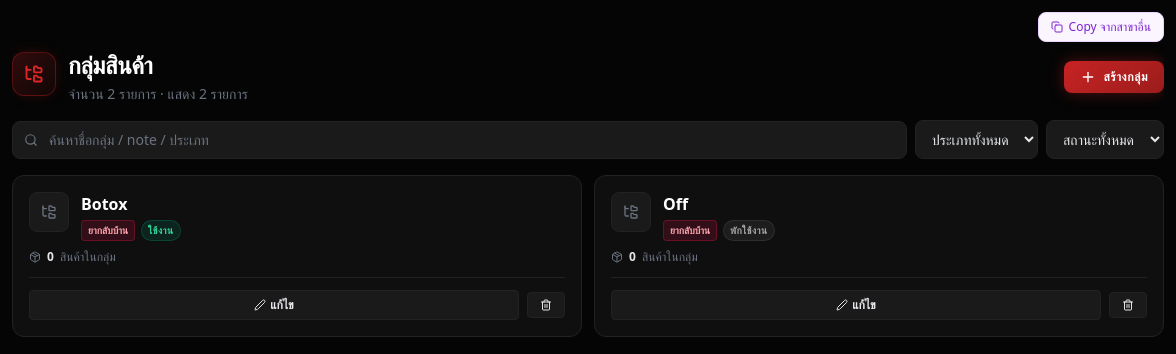
Test: ProductGroupsTab — PU1..PU10 › PU5: status filter hides พักใช้งาน when filter=ใช้งาน
Check: the heading "Botox" is shown, box 81,193 -> 127,215
Select "ใช้งาน" in the 2nd dropdown showing "สถานะทั้งหมด" at (1105, 140), box 1046,120 -> 1164,159
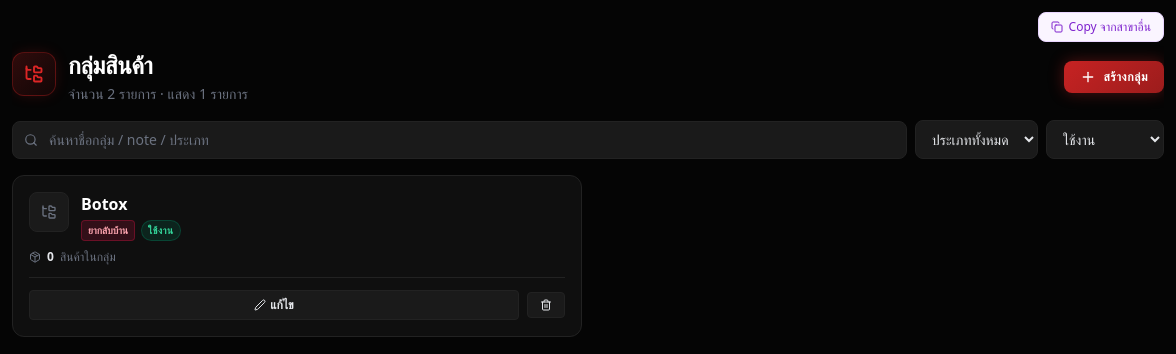
Check: the heading "Botox" is shown, box 81,193 -> 127,215
Check: the heading "Off" is gone
